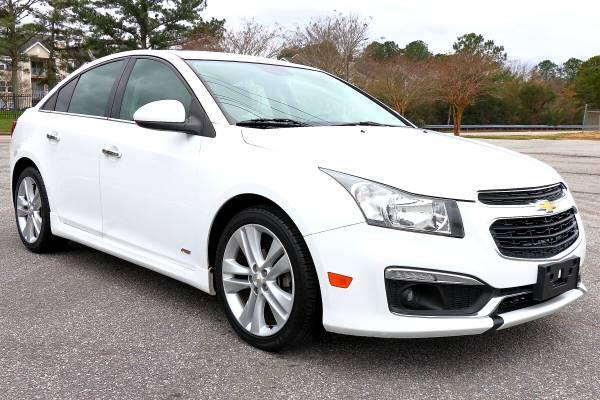Front_Bumper: (302, 187, 584, 337)
Front_Fender: (192, 122, 365, 295)
Front_Right_Door: (100, 122, 203, 284)
Front_Right_Window: (109, 60, 206, 137)
Front_Windshield: (179, 57, 413, 128)
Grille: (491, 206, 584, 256)
Hood: (238, 125, 564, 198)
Rear_Fender: (9, 106, 38, 187)
Rear_Right_Door: (31, 112, 110, 247)
Rear_Right_Window: (42, 56, 136, 118)
Right_Headlight: (318, 171, 464, 242)
Roof: (33, 51, 322, 136)
Wheel: (211, 206, 313, 351), (11, 166, 46, 243)
